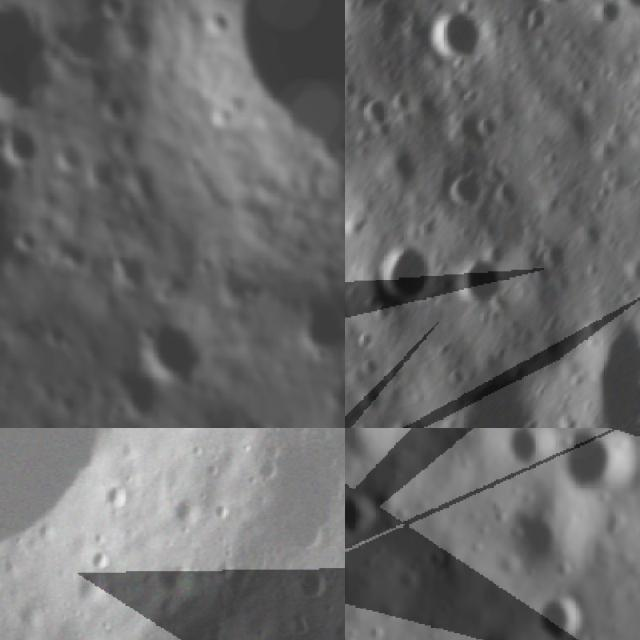crater: (145, 0, 345, 293), (0, 428, 111, 573), (419, 337, 573, 428), (540, 306, 640, 428), (0, 0, 86, 128), (362, 228, 460, 324), (496, 491, 592, 583), (412, 0, 506, 87), (547, 428, 640, 511), (133, 303, 214, 394), (443, 241, 519, 322), (102, 345, 176, 425), (436, 95, 510, 166), (289, 280, 345, 363), (371, 142, 434, 210), (525, 582, 596, 640), (438, 170, 498, 227), (497, 428, 564, 478), (354, 84, 411, 139), (345, 428, 410, 475), (404, 84, 458, 140), (345, 483, 394, 544), (512, 1, 561, 51), (151, 550, 198, 602), (309, 361, 345, 428), (534, 232, 580, 278), (488, 174, 531, 219), (459, 622, 562, 640), (293, 560, 335, 602), (172, 488, 206, 534), (192, 405, 259, 428), (345, 64, 375, 111), (519, 0, 593, 16), (345, 138, 365, 194), (527, 261, 560, 294), (345, 49, 361, 86)
